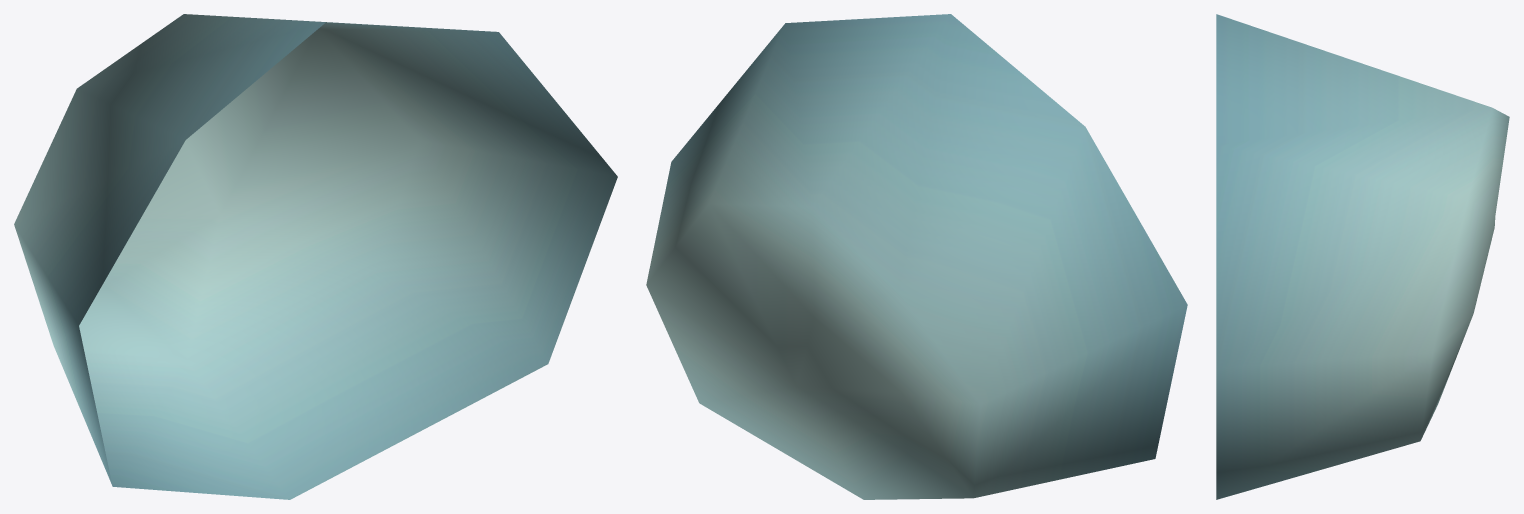
File: Rock 01.FBX
3 views of the same model, side by side, from view 1: azimuth 30°, elevation 25°; view 2: azimuth 150°, elevation 25°; view 3: azimuth 270°, elevation 25° (orthographic). The views are drawn at different scales.
Visible parts, largest first — view 1: Rock 01; view 2: Rock 01; view 3: Rock 01.
Part boxes in pixels (x1=…): Rock 01: x1=14, y1=14, x2=617, y2=499; Rock 01: x1=646, y1=14, x2=1187, y2=499; Rock 01: x1=1216, y1=14, x2=1509, y2=499.
Size of the model in its own units: 42.14 by 35.03 by 20.62.
Materials: 1 (1 with a texture image).
